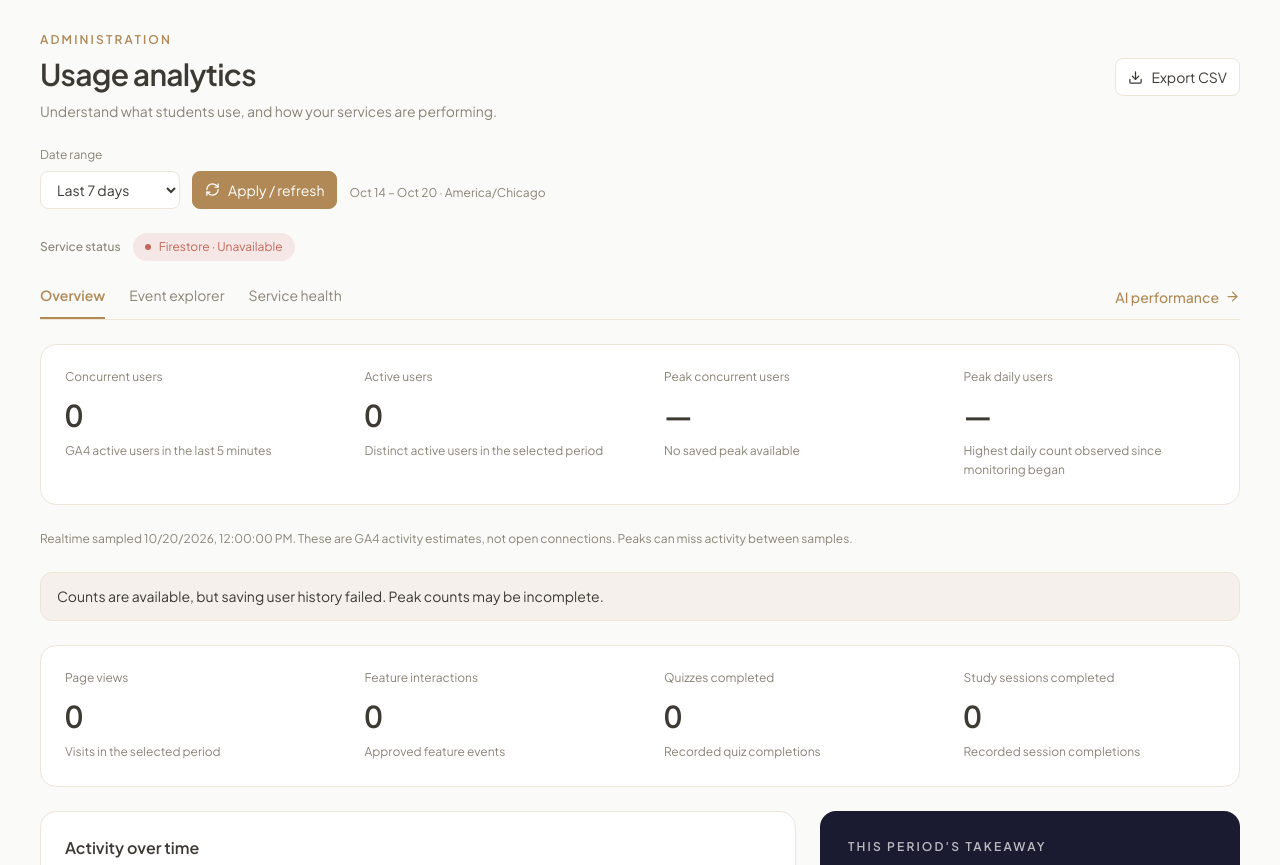
it: carries a preset window to the AI pages and says a custom range is not carried
This screenshot has width=1280, height=865.
Select "Last 30 days" in the dropdown labelled "Date range": (110, 190) [40,171,180,209]
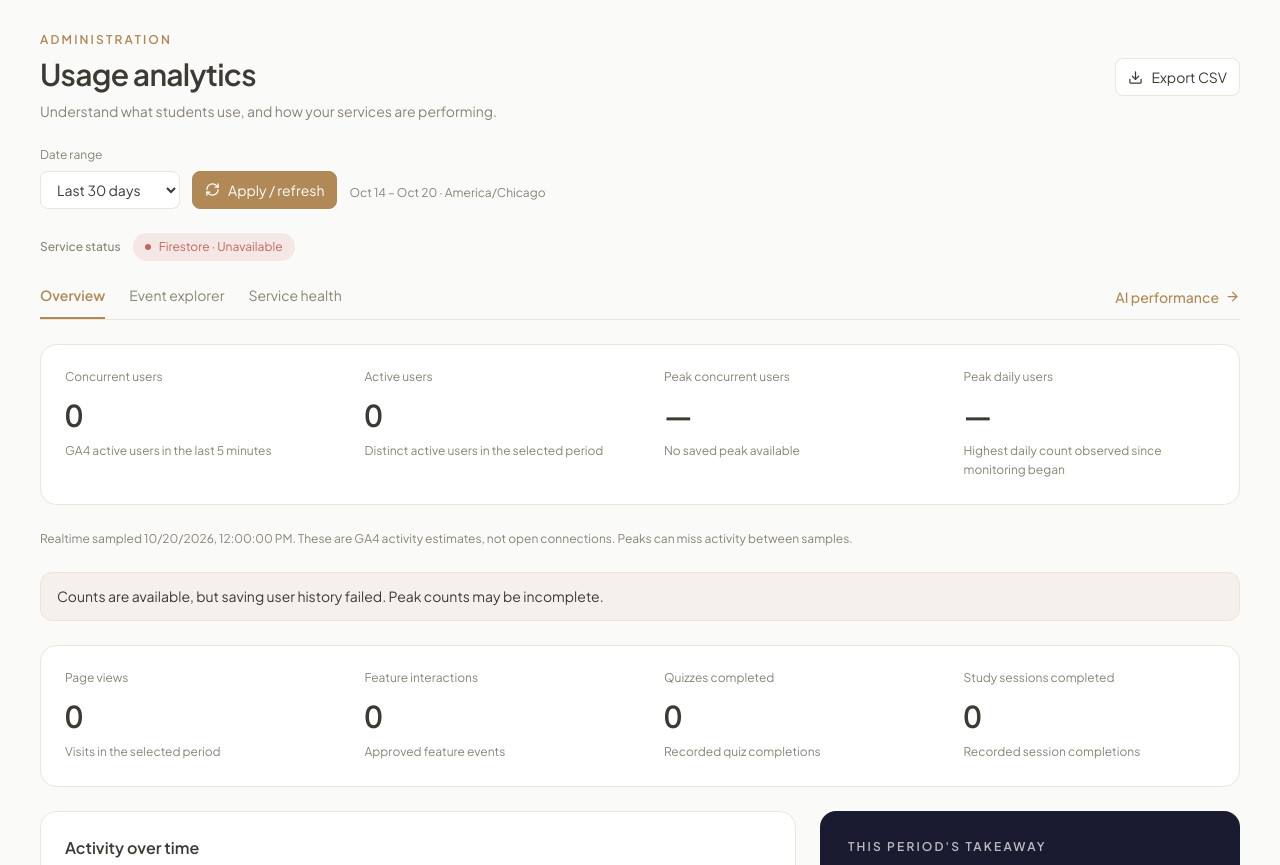
Click the button "Apply / refresh": (265, 190) [192,171,338,209]
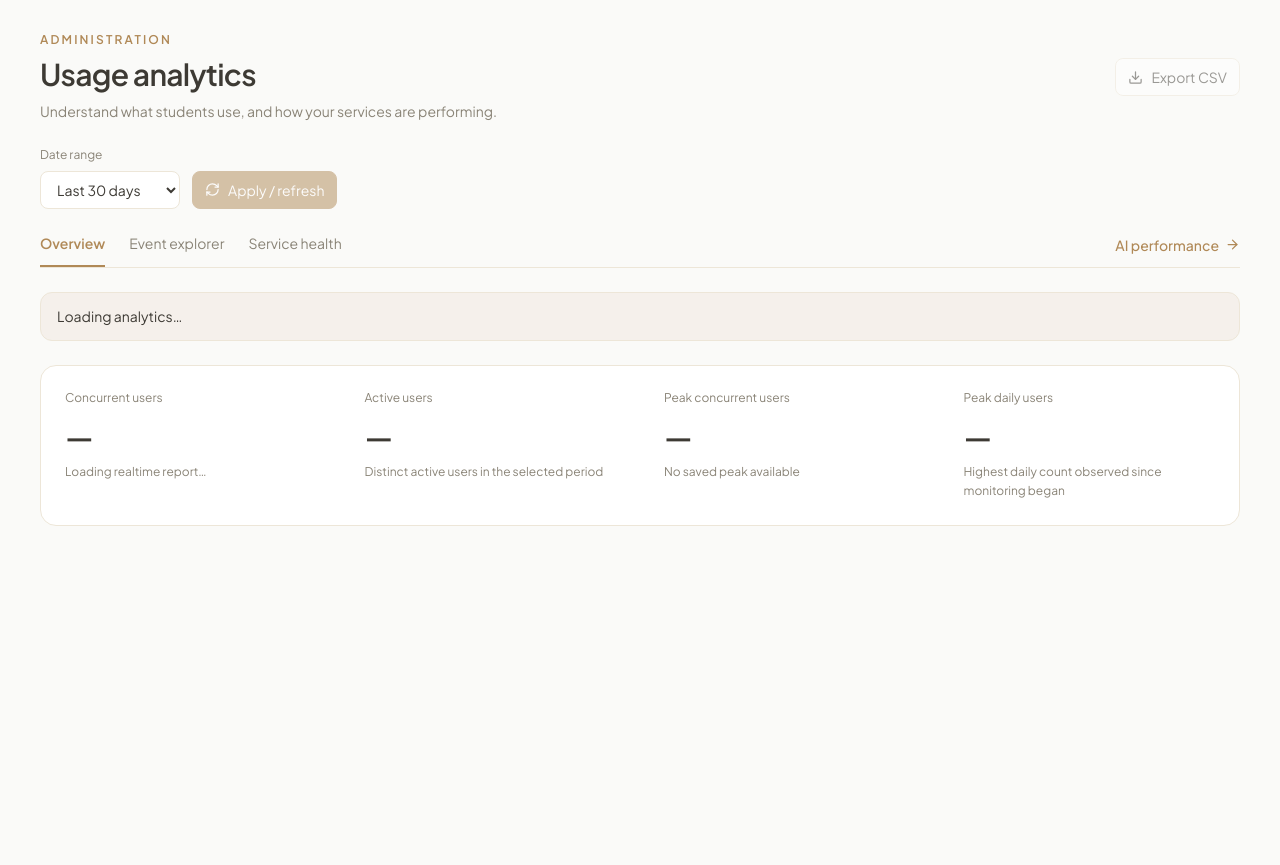
Expected: the link "AI performance" has attribute href="/admin/analytics/ai?days=30", [1115,235,1240,255]
Select "Custom dates" in the dropdown labelled "Date range": (110, 190) [40,171,180,209]
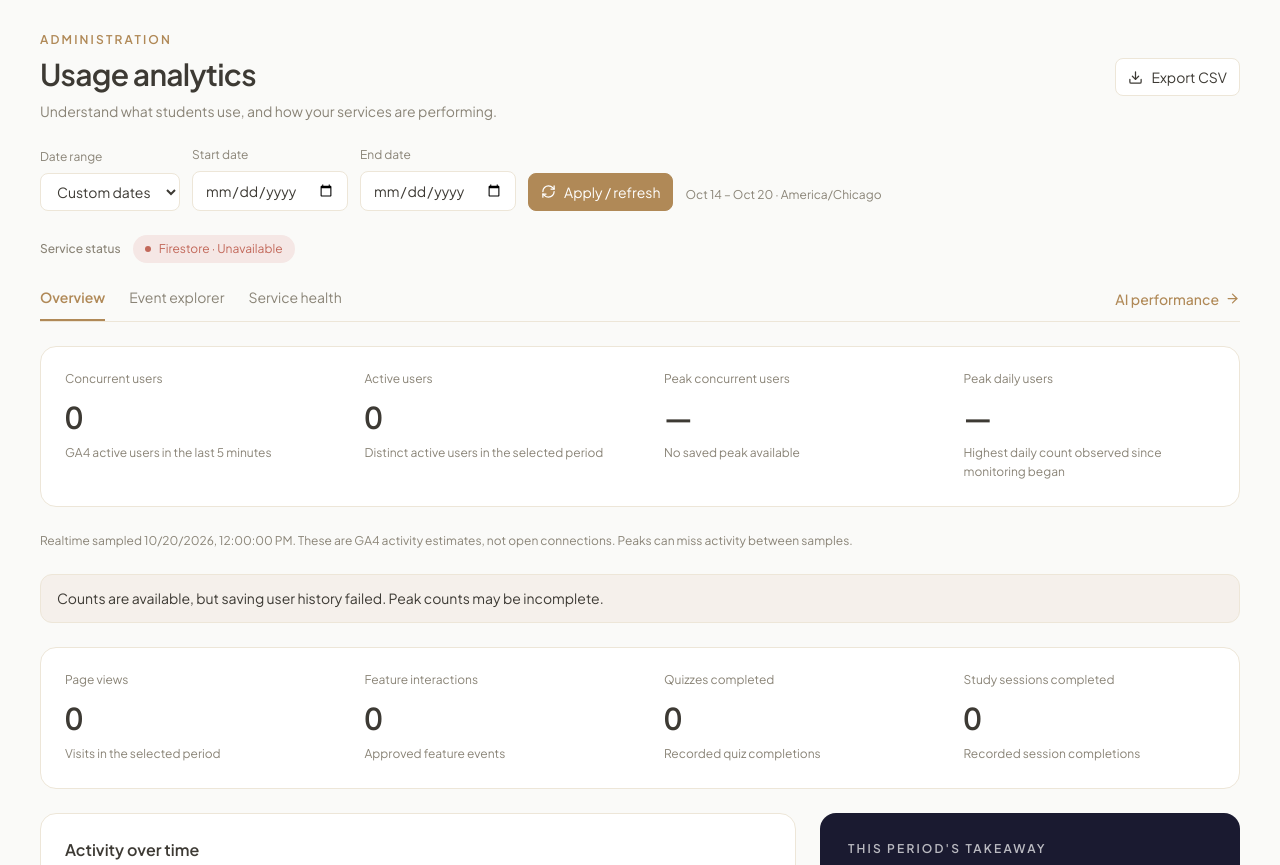
In the date field labelled "Start date": (270, 191) [192,171,348,211], type "2026-10-01"
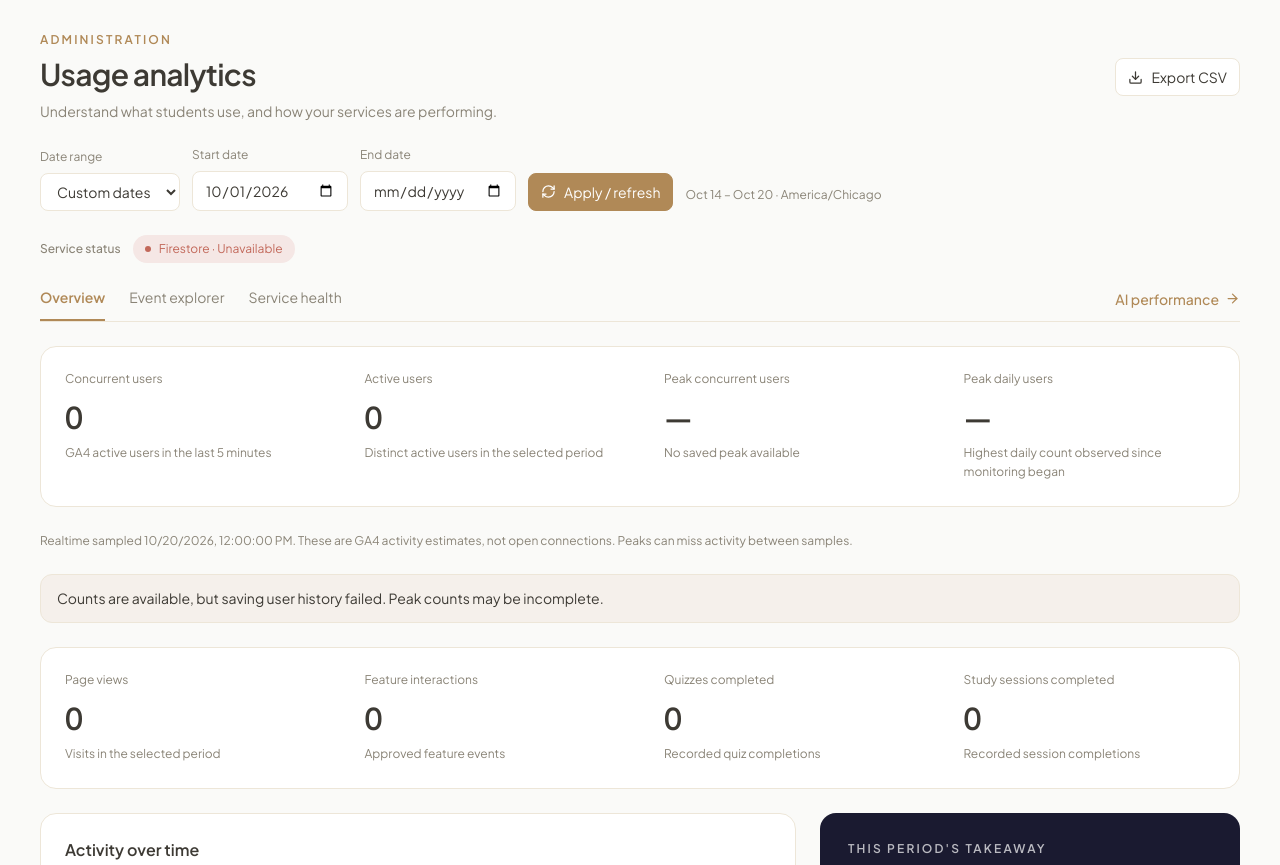
In the date field labelled "End date": (438, 191) [360,171,516,211], type "2026-10-05"
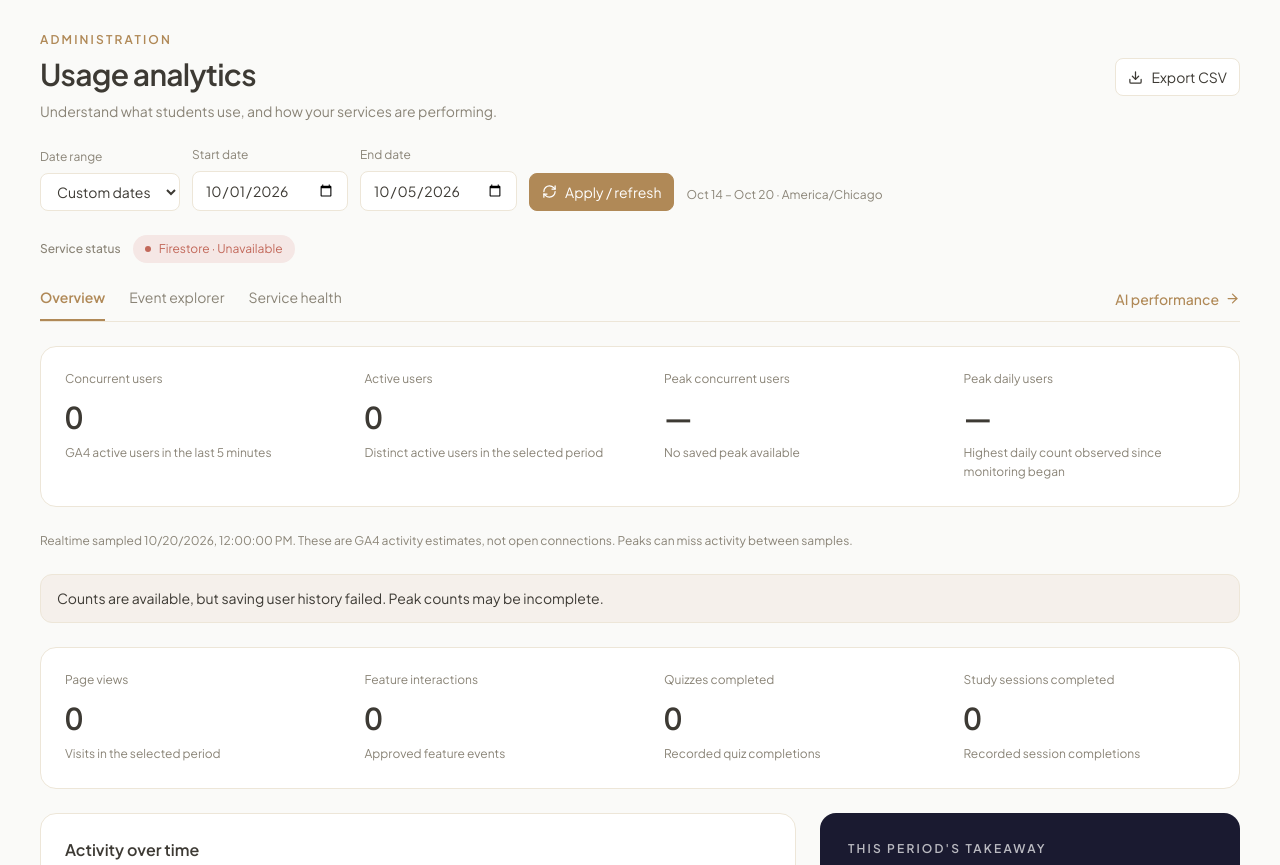
Click the button "Apply / refresh": (602, 192) [529,173,674,211]
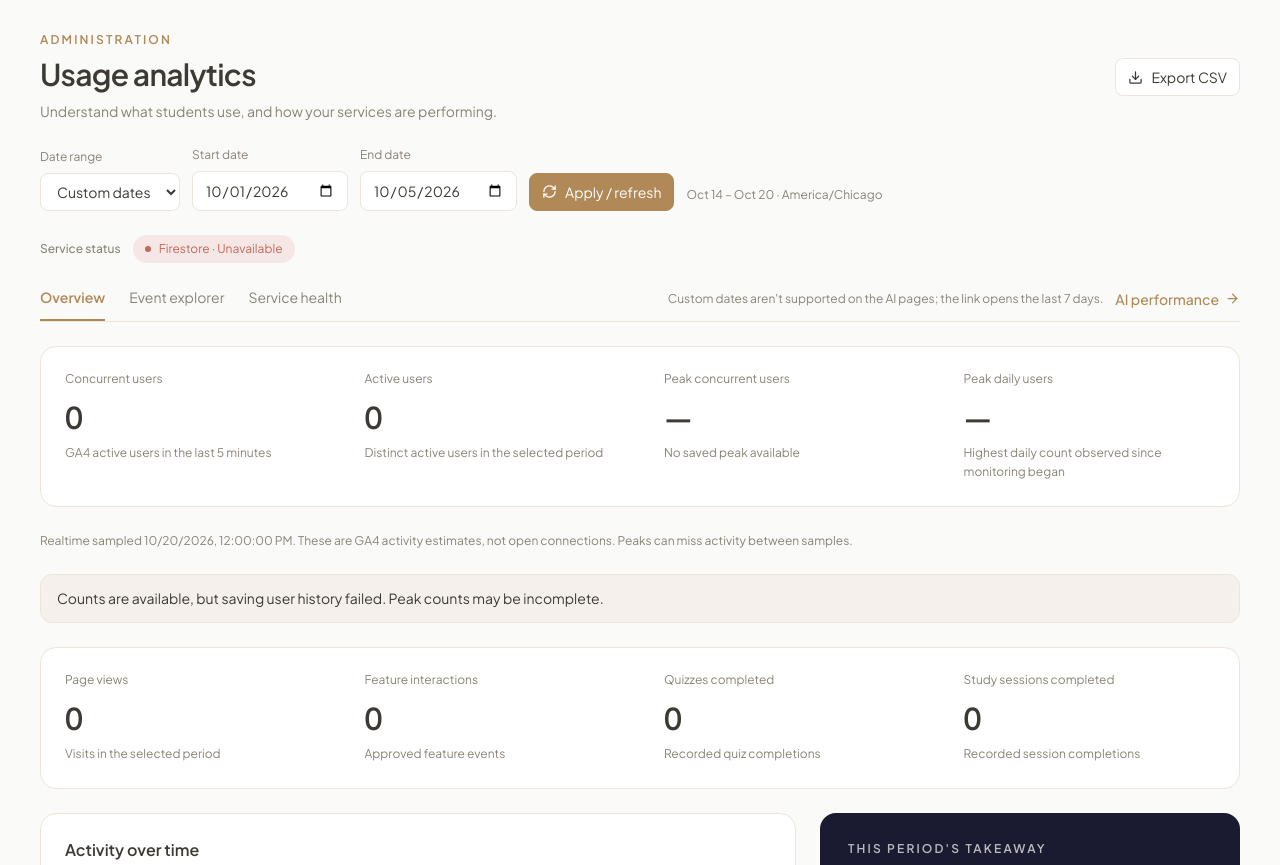
Expected: the text "Custom dates aren.t supported on the AI pages; the link opens the last 7 days." is shown, [668,291,1103,306]
